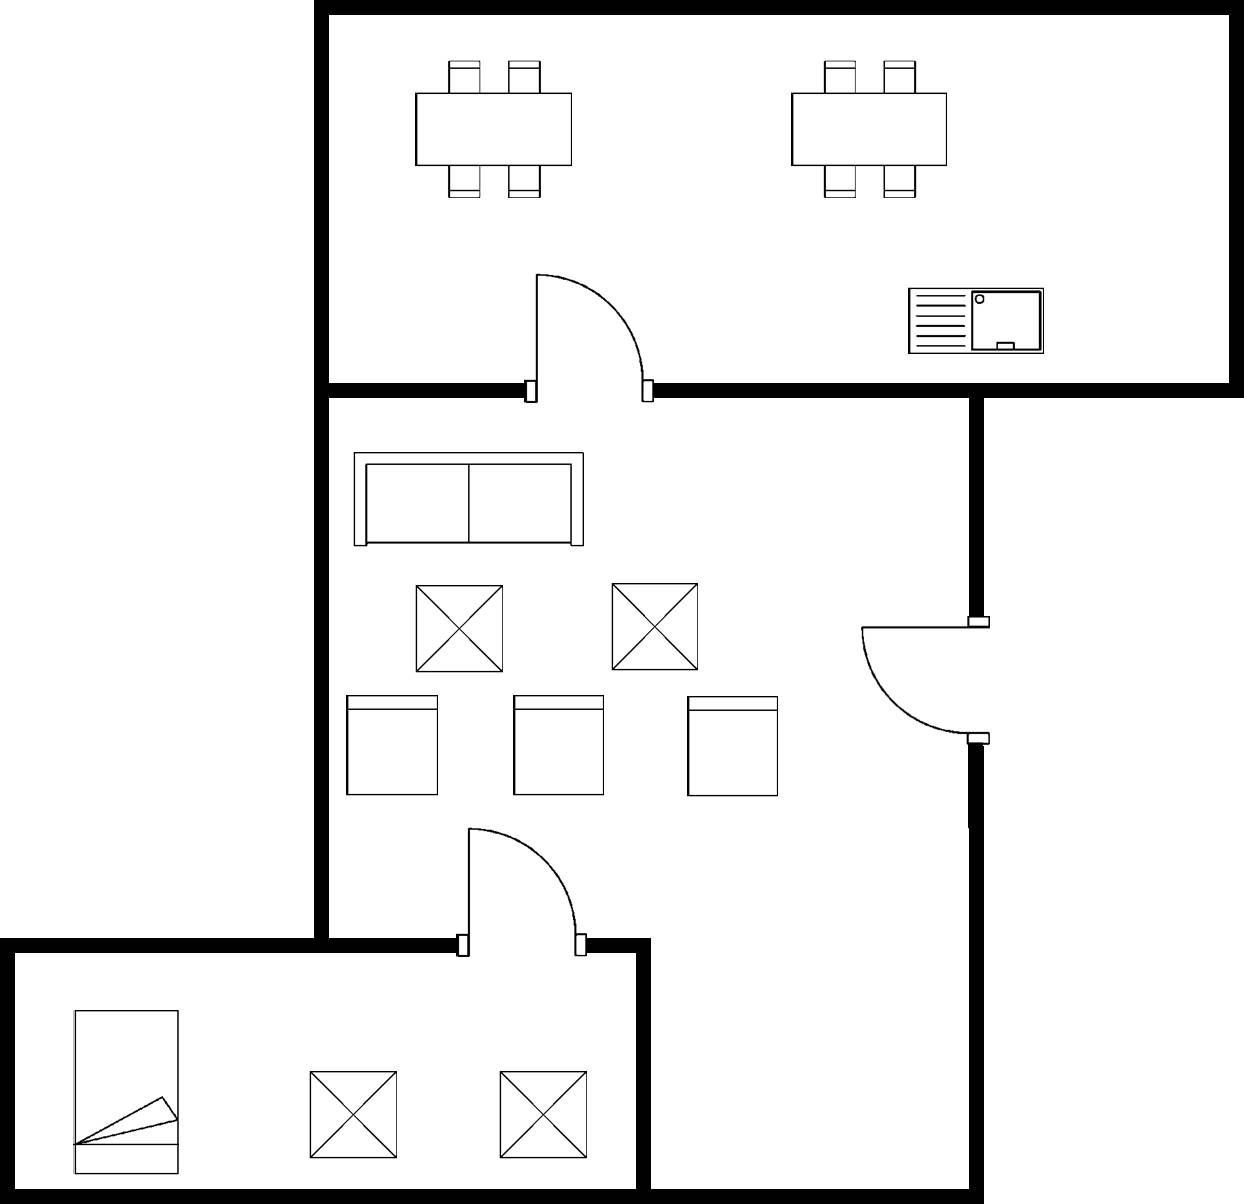bed: (69, 1002, 188, 1181)
coffee_table: (299, 1062, 404, 1166), (492, 1062, 594, 1165), (602, 579, 706, 679), (409, 576, 509, 678)
dining_table: (781, 52, 961, 205), (409, 53, 586, 205)
large_sofa: (346, 441, 591, 558)
sink: (901, 281, 1054, 358)
small_sofa: (503, 687, 614, 803), (682, 687, 785, 807), (341, 686, 444, 802)
